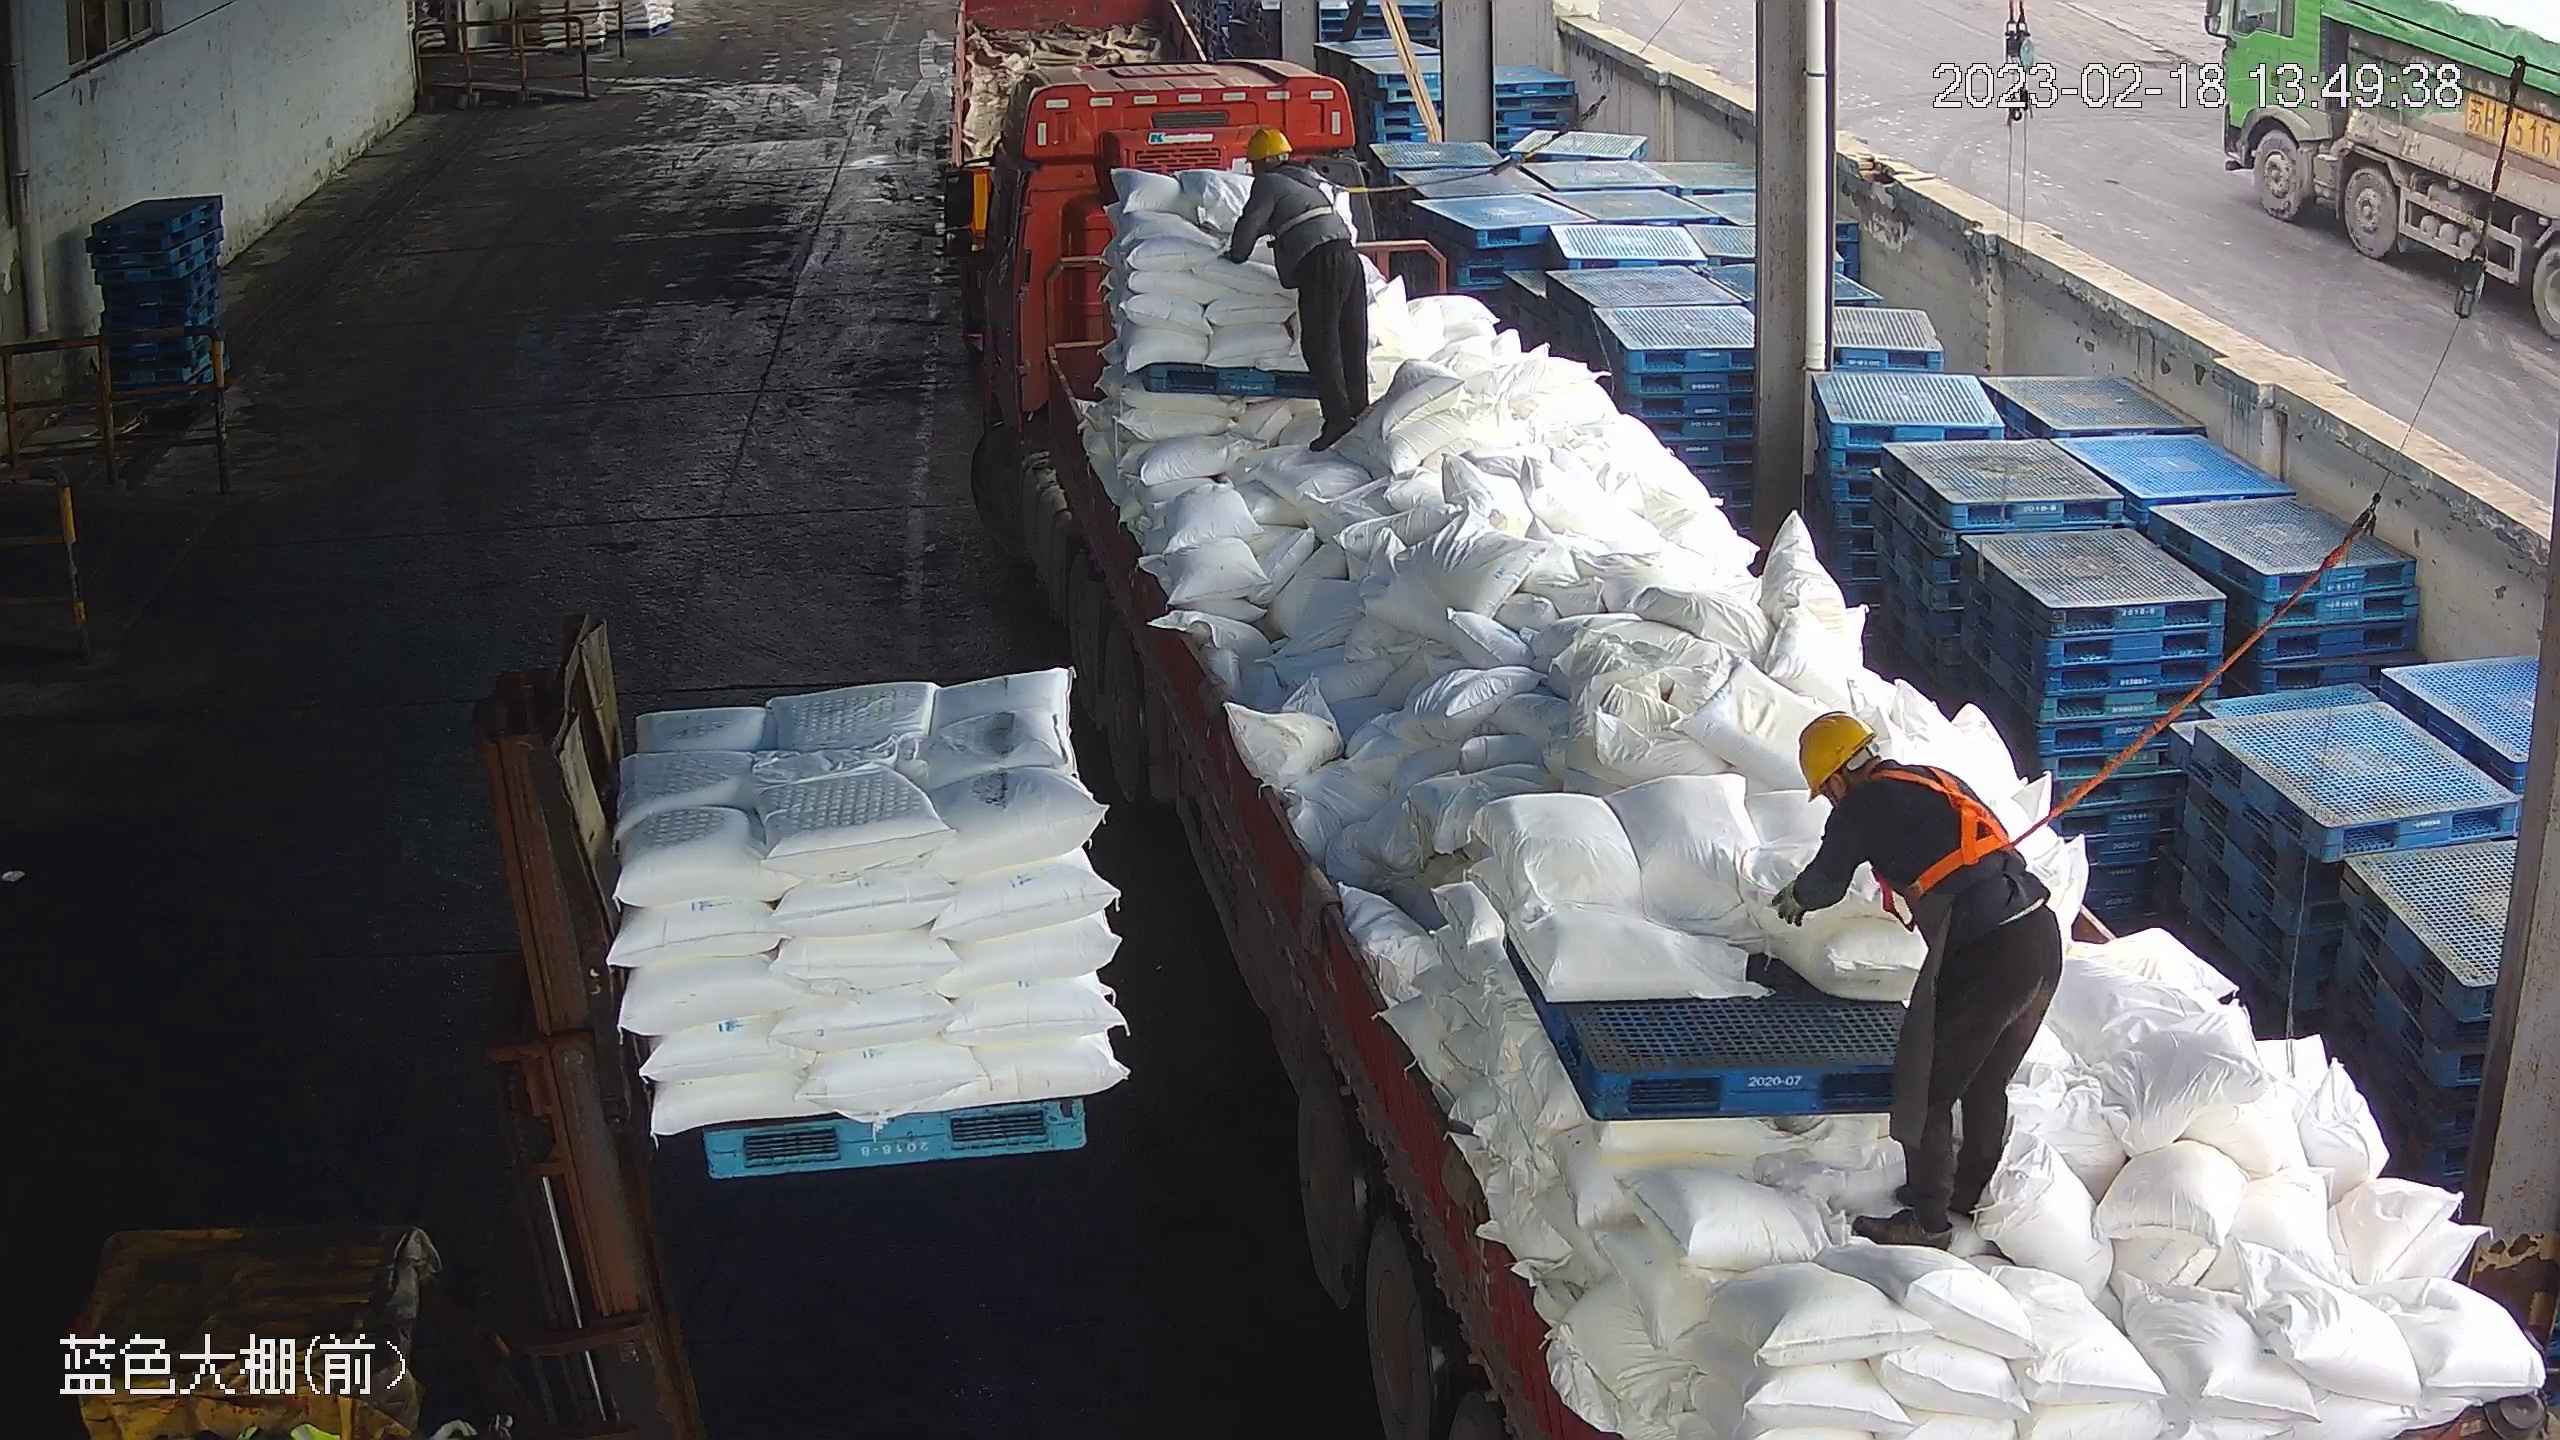belt: (1879, 744, 2024, 907), (1272, 160, 1363, 238)
head: (1790, 710, 1977, 879), (1236, 124, 1338, 215)
helmet: (1796, 710, 1880, 795), (1243, 123, 1293, 161)
people: (1766, 708, 2069, 1253), (1223, 120, 1379, 452)
truck: (941, 55, 2544, 1440)
